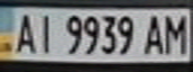3: (100, 12, 121, 56)
9: (78, 11, 103, 56), (115, 11, 139, 56), (60, 11, 84, 55)
A: (9, 9, 39, 55), (139, 11, 169, 56)
I: (33, 10, 60, 54)
M: (160, 10, 190, 55)
